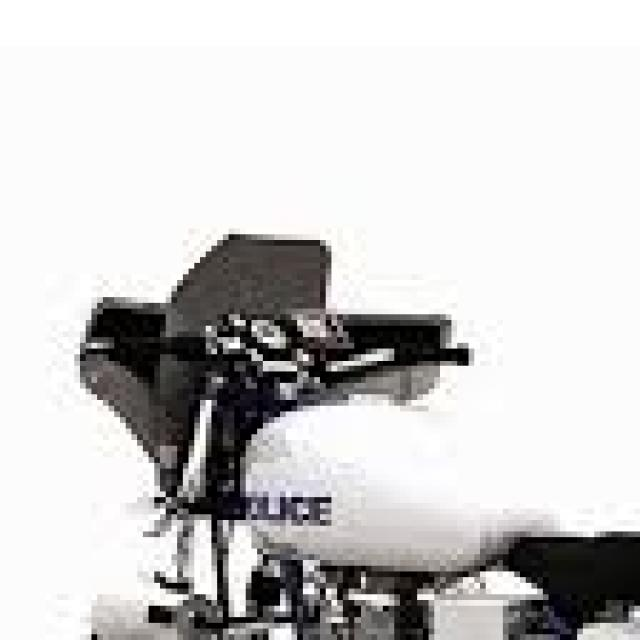bike: (51, 131, 640, 640)
